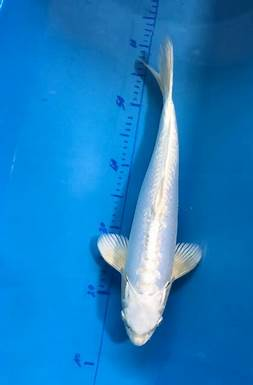white: (96, 36, 201, 347)
